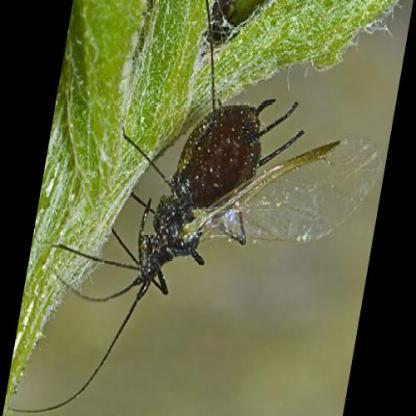uroleucon compositae: (134, 98, 382, 299)
